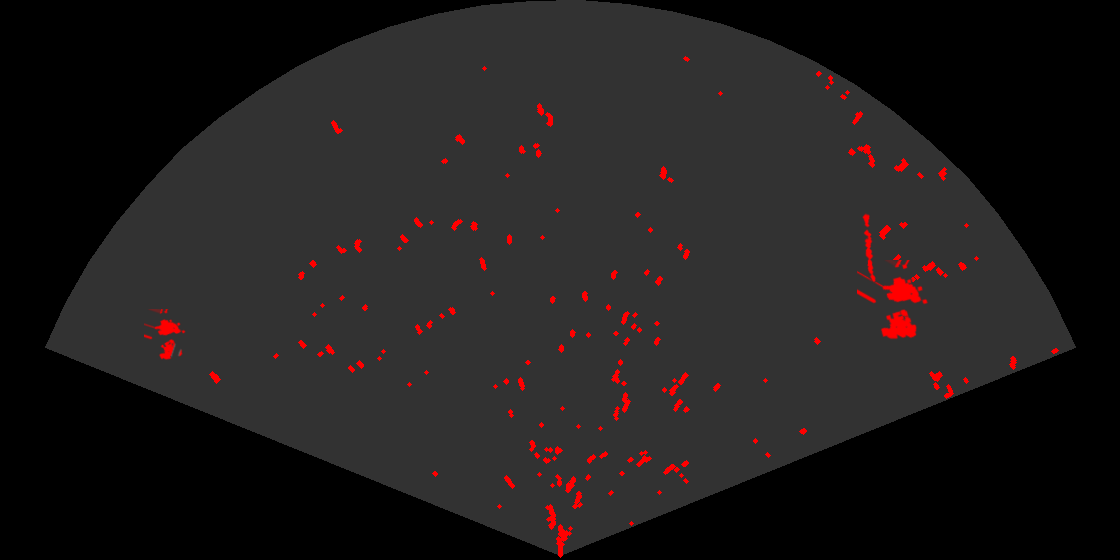cage: (857, 260, 930, 341), (144, 309, 187, 361)
chain: (861, 213, 877, 284)
